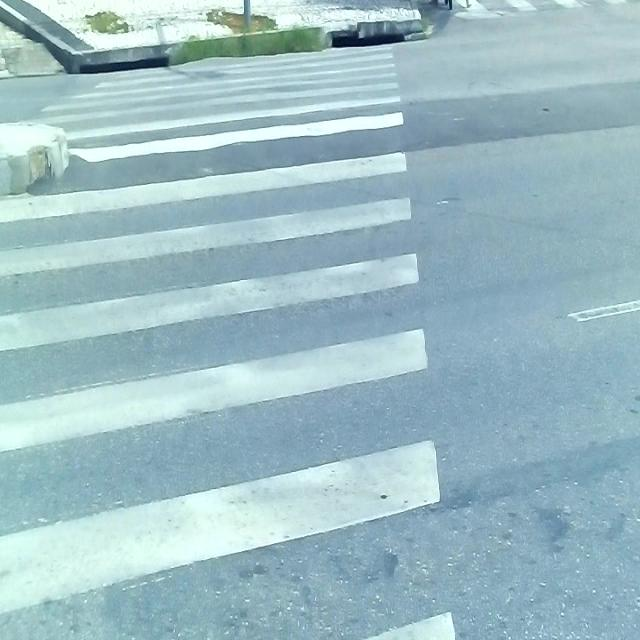crosswalk: (0, 42, 464, 640)
